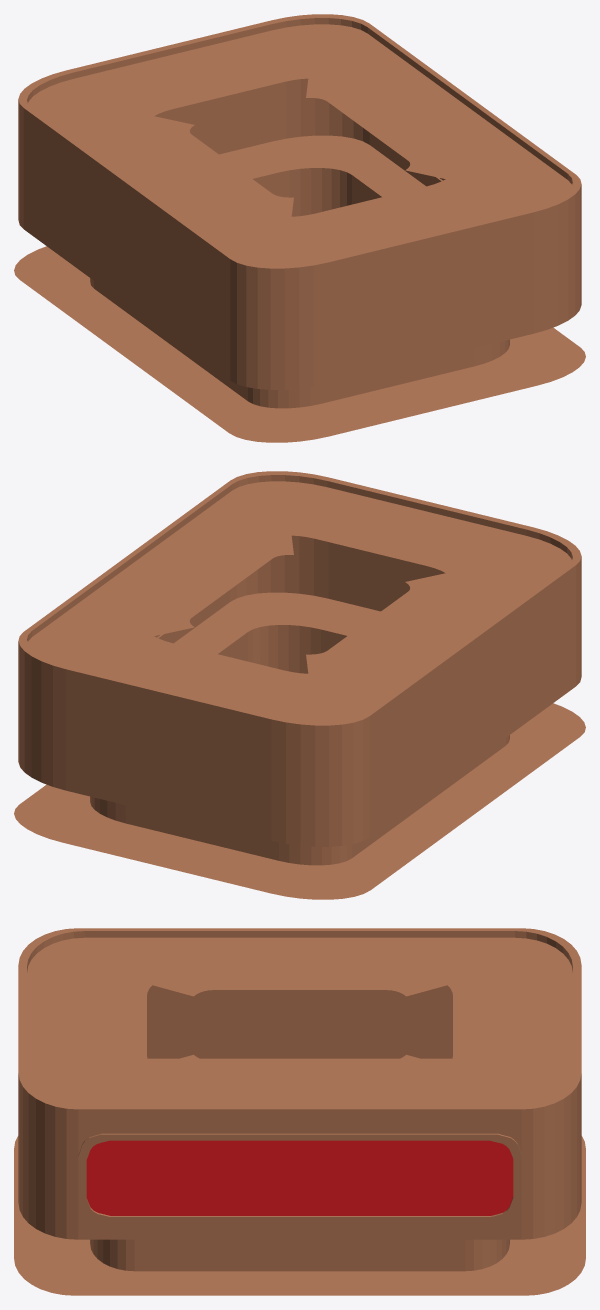
The model's file is Cub.fbx.
The picture shows the model from 3 angles, top to bottom: view 1: azimuth 30°, elevation 25°; view 2: azimuth 150°, elevation 25°; view 3: azimuth 270°, elevation 25°; orthographic projection. The views are drawn at different scales.
Visible parts, largest first — view 1: Cub; view 2: Cub; view 3: Cub.
Part boxes in pixels (x1=…): Cub: x1=14, y1=14, x2=585, y2=442; Cub: x1=14, y1=471, x2=585, y2=899; Cub: x1=14, y1=928, x2=585, y2=1295.
Bounding box in the file's own units: 661 × 310 × 868.
